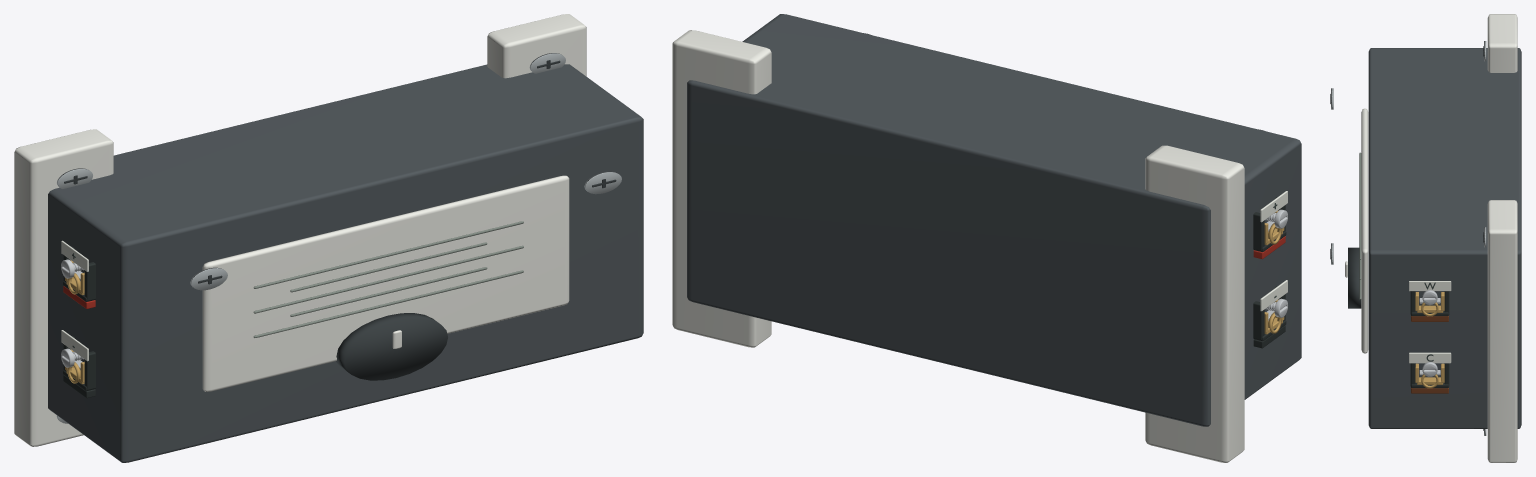
Rendered from pwmcontrol_single-channel.glb.
The picture shows the model from 3 angles, left to right: view 1: azimuth 30°, elevation 25°; view 2: azimuth 150°, elevation 25°; view 3: azimuth 270°, elevation 25°; orthographic projection. The views are drawn at different scales.
Visible parts, largest first — view 1: node-4, node-3 · Original material.001, node-46, node-3 · Original material.004, node-3 · Original material.002, detail:terminal-clamp:- · Detail moulded engineering polymer; view 2: node-4, node-3 · Original material.001, detail:terminal-clamp:- · Detail moulded engineering polymer; view 3: node-4, node-3 · Original material.001, node-46, Moulded terminal legend pad.003, Moulded terminal legend pad.002, node-3 · Original material.004, detail:terminal-clamp:C · Detail machined brass, detail:terminal-clamp:W · Detail machined brass, detail:terminal-clamp:C · Detail moulded engineering polymer, detail:terminal-clamp:W · Detail moulded engineering polymer, node-3 · Original material.002, detail:terminal-clamp:C · Detail zinc plated fixing (+3 smaller).
Boxes of the visible parts, x1,y1,x2,y2 form: node-4: [48, 64, 643, 462]; node-3 · Original material.001: [14, 14, 586, 446]; node-46: [336, 313, 447, 380]; node-3 · Original material.004: [253, 221, 523, 337]; node-3 · Original material.002: [56, 53, 621, 423]; detail:terminal-clamp:- · Detail moulded engineering polymer: [63, 335, 95, 398]; node-4: [687, 14, 1301, 426]; node-3 · Original material.001: [672, 30, 1244, 462]; detail:terminal-clamp:- · Detail moulded engineering polymer: [1253, 286, 1286, 348]; node-4: [1368, 48, 1521, 428]; node-3 · Original material.001: [1361, 14, 1517, 462]; node-46: [1348, 247, 1361, 308]; Moulded terminal legend pad.003: [1409, 352, 1451, 363]; Moulded terminal legend pad.002: [1409, 281, 1451, 291]; node-3 · Original material.004: [1359, 152, 1361, 299]; detail:terminal-clamp:C · Detail machined brass: [1415, 363, 1444, 388]; detail:terminal-clamp:W · Detail machined brass: [1415, 292, 1444, 316]; detail:terminal-clamp:C · Detail moulded engineering polymer: [1410, 363, 1449, 388]; detail:terminal-clamp:W · Detail moulded engineering polymer: [1410, 291, 1449, 316]; node-3 · Original material.002: [1331, 41, 1486, 435]; detail:terminal-clamp:C · Detail zinc plated fixing: [1419, 362, 1440, 376].
Size of the model in its own units: 1.14 by 0.564 by 0.4194.
